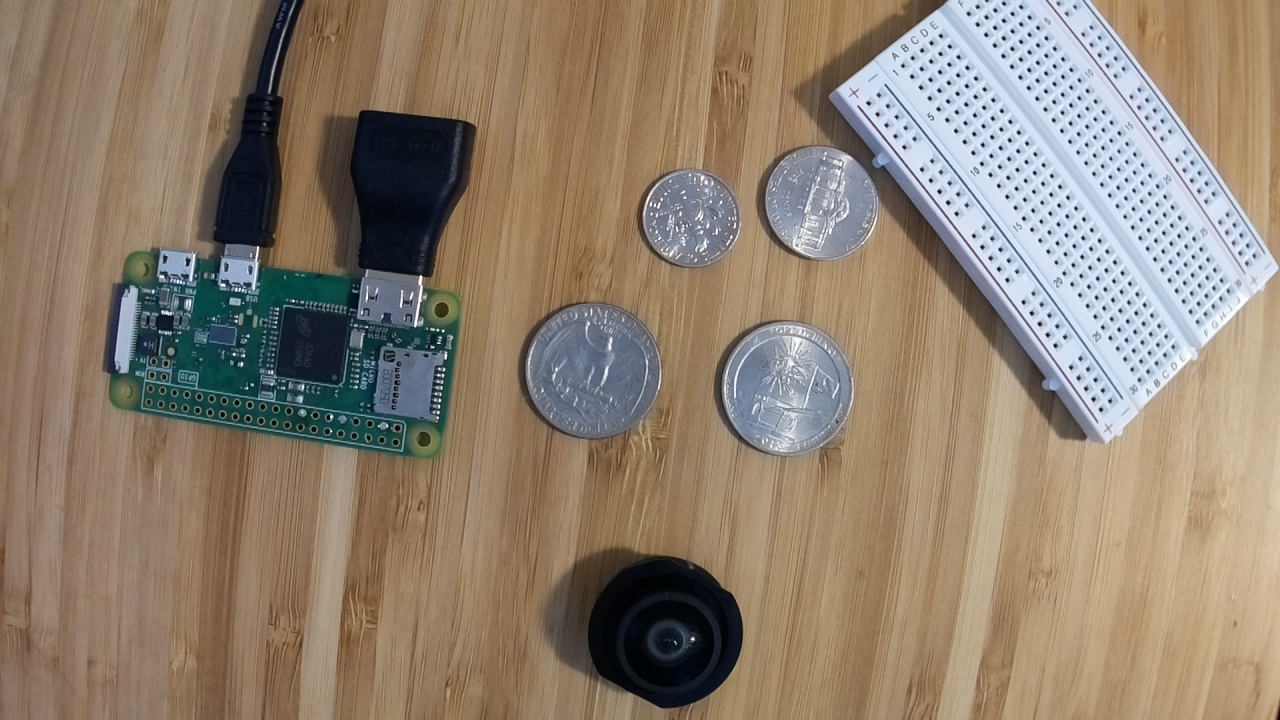dime: (638, 168, 742, 268)
nickel: (758, 144, 882, 262)
quarter: (519, 300, 663, 442), (716, 314, 852, 460)
